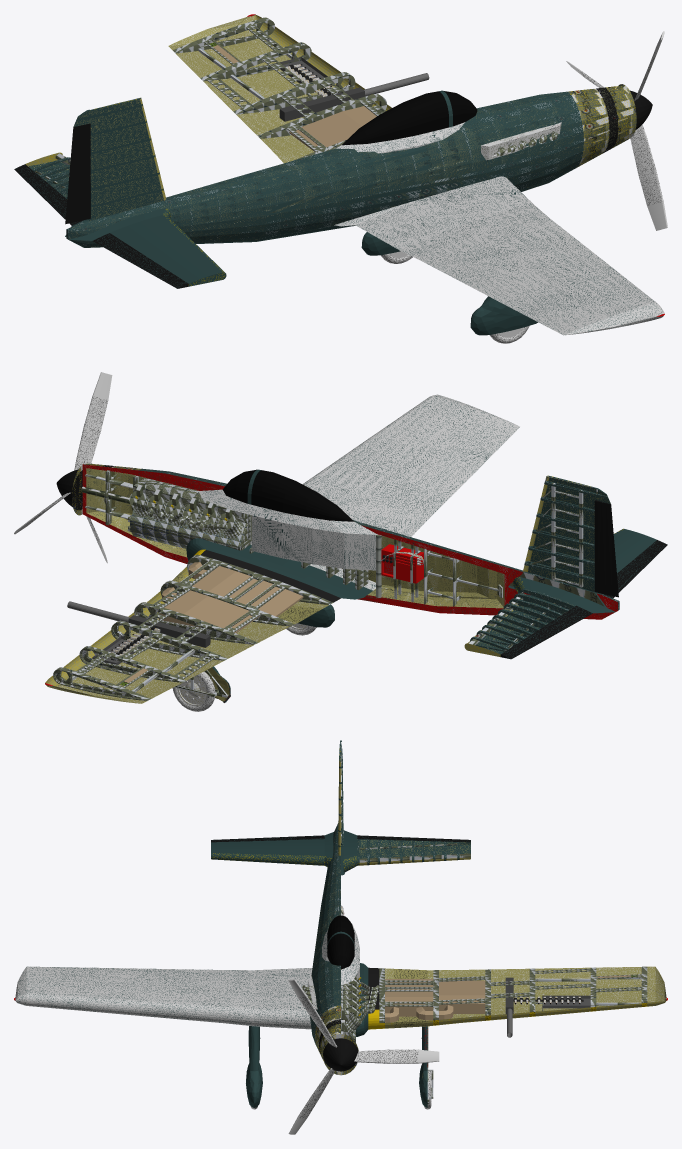
3 renders of one model, top to bottom at view 1: azimuth 30°, elevation 25°; view 2: azimuth 150°, elevation 25°; view 3: azimuth 270°, elevation 25°, orthographic. The views are drawn at different scales.
Parts seen in each view (by area): view 1: mesh332.001_mesh332-geometry, mesh330.001_mesh330-geometry, mesh323.001_mesh323-geometry, mesh619.001_mesh619-geometry, mesh345.001_mesh345-geometry, mesh331.001_mesh331-geometry, mesh16_mesh16-geometry, mesh355.001_mesh355-geometry, mesh689.002_mesh689-geometry, mesh372.001_mesh372-geometry, mesh681.001_mesh681-geometry, mesh351.001_mesh351-geometry (+3 smaller); view 2: mesh330.001_mesh330-geometry, mesh323.001_mesh323-geometry, mesh332.001_mesh332-geometry, mesh331.001_mesh331-geometry, mesh619.001_mesh619-geometry, mesh355.001_mesh355-geometry, mesh604.002_mesh604-geometry, mesh371.001_mesh371-geometry, mesh372.001_mesh372-geometry, mesh16_mesh16-geometry, mesh345.001_mesh345-geometry, mesh689.001_mesh689-geometry (+5 smaller); view 3: mesh330.001_mesh330-geometry, mesh323.001_mesh323-geometry, mesh332.001_mesh332-geometry, mesh345.001_mesh345-geometry, mesh355.001_mesh355-geometry, mesh331.001_mesh331-geometry, mesh371.001_mesh371-geometry, mesh372.001_mesh372-geometry, mesh689.003_mesh689-geometry, mesh681.001_mesh681-geometry, mesh687.001_mesh687-geometry, mesh689.001_mesh689-geometry (+2 smaller).
Part boxes in pixels (<box>): mesh332.001_mesh332-geometry: <box>66,84,636,247</box>; mesh330.001_mesh330-geometry: <box>334,176,664,335</box>; mesh323.001_mesh323-geometry: <box>168,15,391,163</box>; mesh619.001_mesh619-geometry: <box>73,97,166,220</box>; mesh345.001_mesh345-geometry: <box>69,208,226,288</box>; mesh331.001_mesh331-geometry: <box>335,90,477,153</box>; mesh16_mesh16-geometry: <box>65,123,90,224</box>; mesh355.001_mesh355-geometry: <box>14,152,87,236</box>; mesh689.002_mesh689-geometry: <box>630,124,667,230</box>; mesh372.001_mesh372-geometry: <box>289,106,376,151</box>; mesh681.001_mesh681-geometry: <box>470,296,537,335</box>; mesh351.001_mesh351-geometry: <box>481,122,561,160</box>; mesh330.001_mesh330-geometry: <box>250,394,519,590</box>; mesh323.001_mesh323-geometry: <box>45,538,372,703</box>; mesh332.001_mesh332-geometry: <box>72,463,619,619</box>; mesh331.001_mesh331-geometry: <box>198,469,377,570</box>; mesh619.001_mesh619-geometry: <box>508,475,610,607</box>; mesh355.001_mesh355-geometry: <box>464,577,615,659</box>; mesh604.002_mesh604-geometry: <box>130,478,247,550</box>; mesh371.001_mesh371-geometry: <box>178,562,303,616</box>; mesh372.001_mesh372-geometry: <box>159,587,260,633</box>; mesh16_mesh16-geometry: <box>594,500,618,597</box>; mesh345.001_mesh345-geometry: <box>600,528,667,598</box>; mesh689.001_mesh689-geometry: <box>74,372,112,470</box>; mesh330.001_mesh330-geometry: <box>15,966,312,1029</box>; mesh323.001_mesh323-geometry: <box>356,963,666,1036</box>; mesh332.001_mesh332-geometry: <box>310,823,358,1075</box>; mesh345.001_mesh345-geometry: <box>211,832,333,867</box>; mesh355.001_mesh355-geometry: <box>343,830,470,872</box>; mesh331.001_mesh331-geometry: <box>322,913,359,985</box>; mesh371.001_mesh371-geometry: <box>385,979,433,1022</box>; mesh372.001_mesh372-geometry: <box>439,980,485,1019</box>; mesh689.003_mesh689-geometry: <box>354,1049,439,1063</box>; mesh681.001_mesh681-geometry: <box>246,1026,262,1107</box>; mesh687.001_mesh687-geometry: <box>323,1038,358,1071</box>; mesh689.001_mesh689-geometry: <box>288,979,337,1047</box>.
Bounding box in the file's own units: 0.6109 × 0.2802 × 0.7404.
